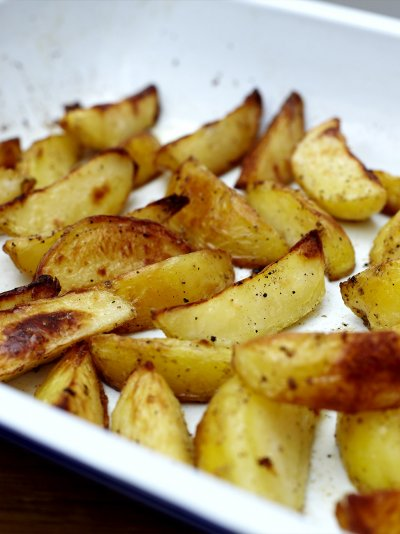boiled potatoes: (167, 162, 335, 330), (182, 86, 400, 209), (4, 134, 173, 291), (201, 377, 328, 509), (85, 324, 247, 399), (235, 331, 400, 402), (6, 296, 136, 361), (119, 367, 193, 465), (51, 343, 116, 434), (350, 227, 400, 331)
